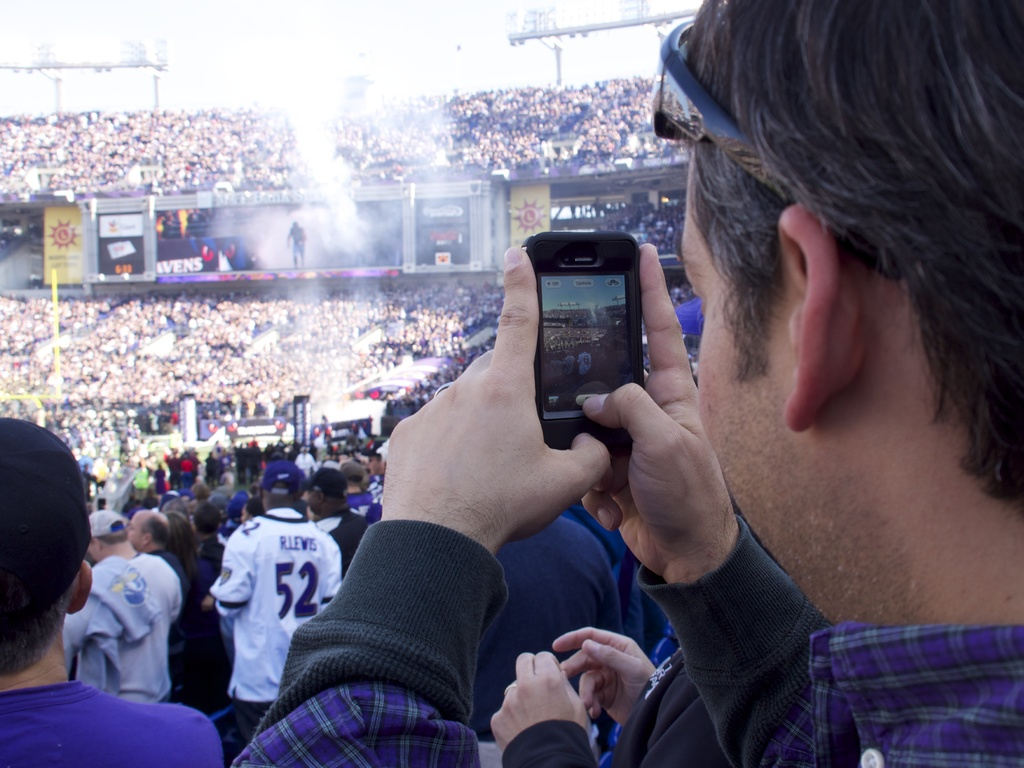Mobile-phone: (520, 228, 649, 469)
